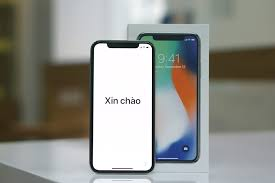iphone: (132, 29, 201, 163)
iphone10: (132, 30, 201, 164), (89, 38, 156, 175)
